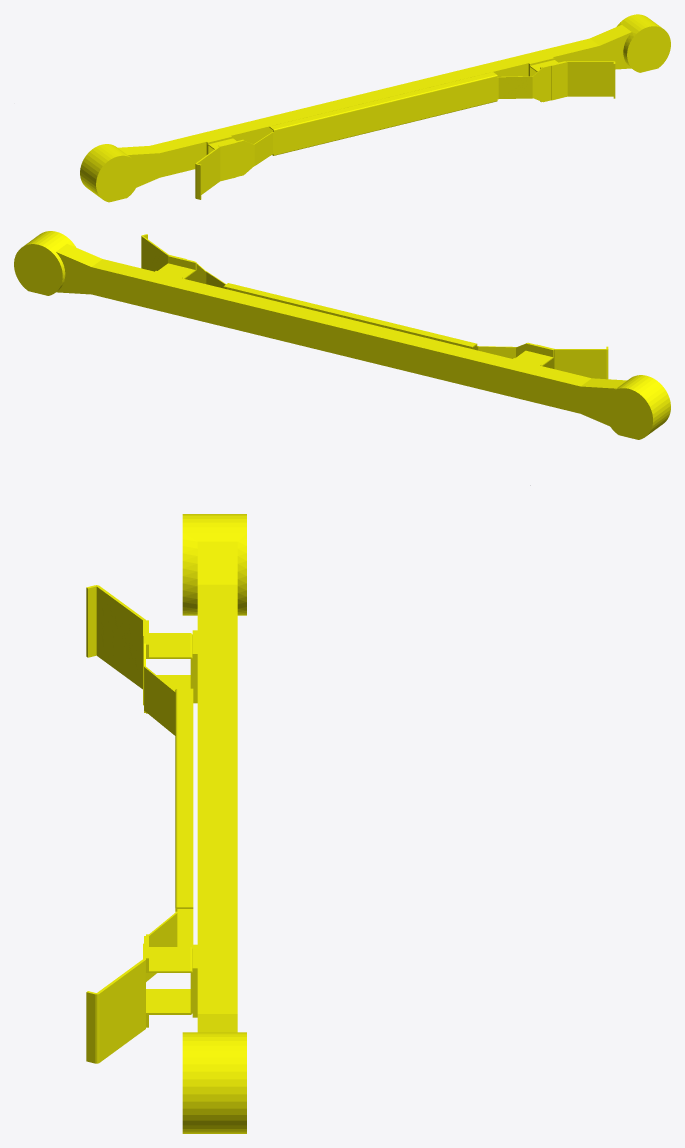
3 renders of one model, top to bottom at view 1: azimuth 30°, elevation 25°; view 2: azimuth 150°, elevation 25°; view 3: azimuth 270°, elevation 25°, orthographic. The views are drawn at different scales.
Parts seen in each view (by area): view 1: node; view 2: node; view 3: node.
Boxes of the visible parts, bbox=[...] form: node: bbox=[80, 14, 670, 202]; node: bbox=[14, 231, 670, 485]; node: bbox=[86, 514, 246, 1133].
Size of the model in its own units: 1321 by 96.5 by 510.
